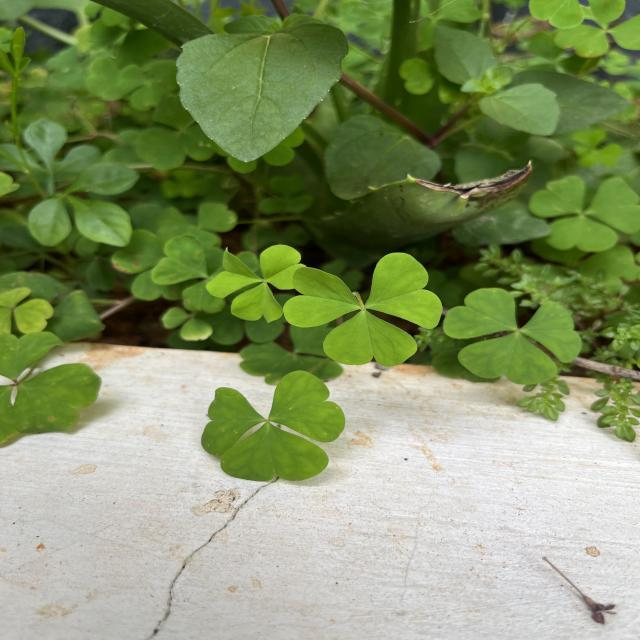Oxalis corniculata: (283, 250, 443, 368), (196, 367, 350, 483), (444, 286, 585, 387), (0, 328, 103, 448), (526, 174, 640, 253), (205, 242, 308, 324)
